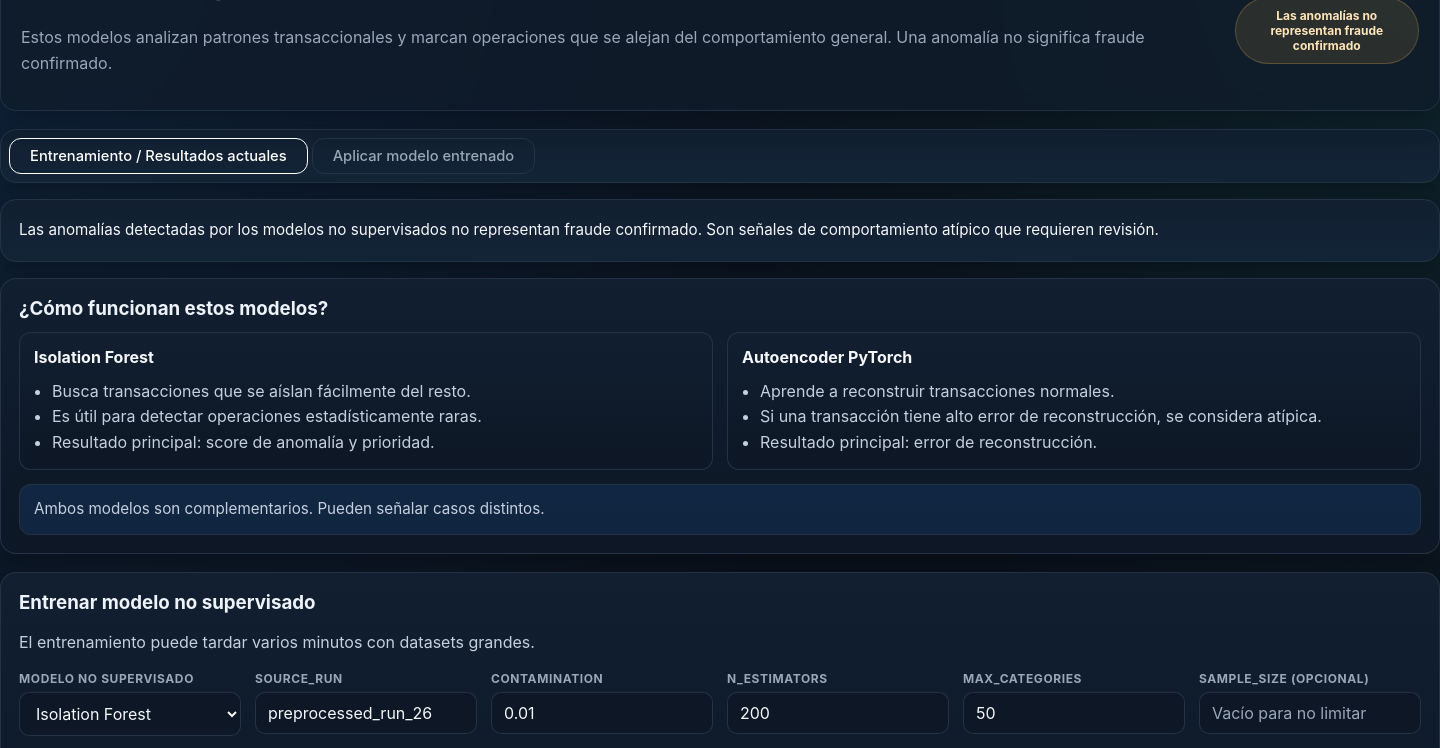
Models page — Aplicar modelo entrenado tab › apply tab "Aplicar modelo" button is disabled when no model selected
What coordinates should you click on to do the following:
click the button "Aplicar modelo entrenado"
I would click on:
 (424, 156)
Its box is 312,138 -> 535,174.
(page scrolled)
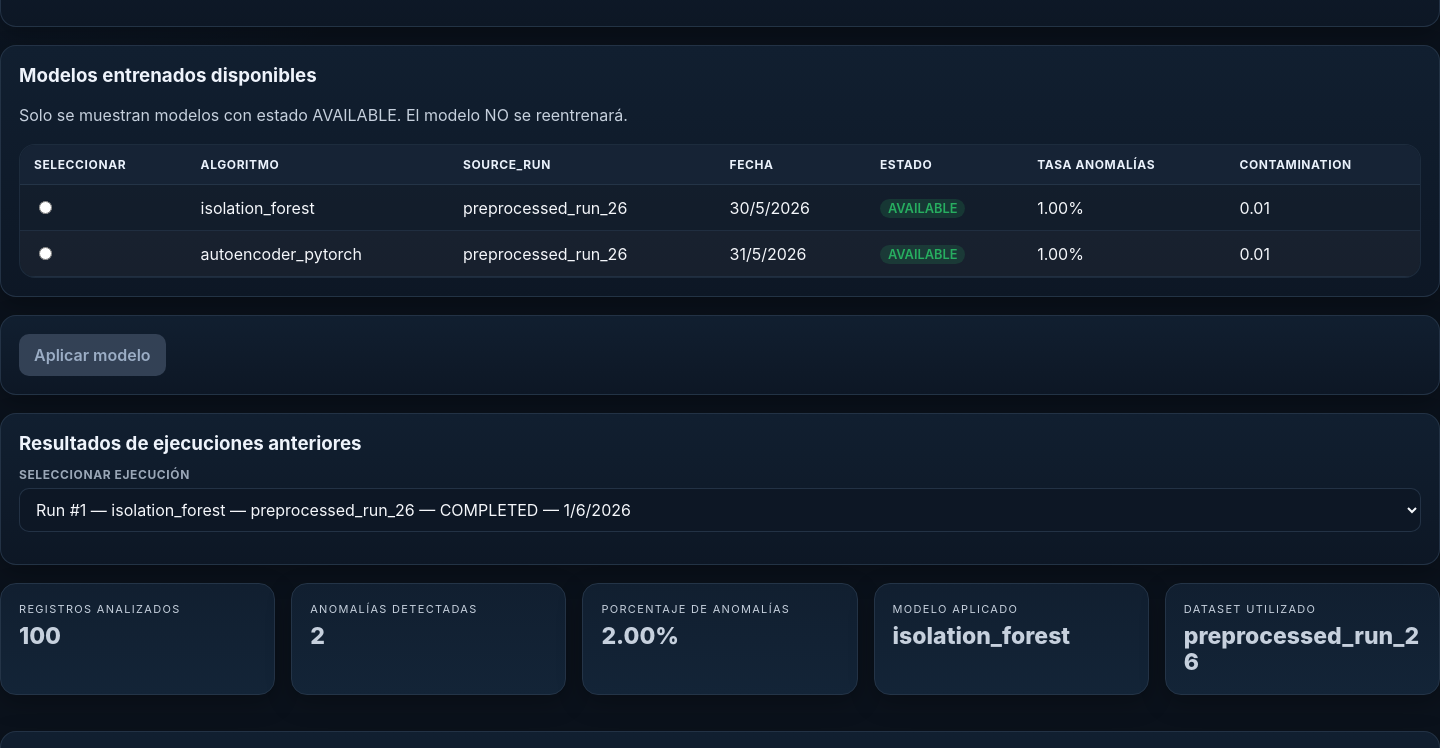
Result: the button "Aplicar modelo" is disabled at 19,334 -> 166,376
